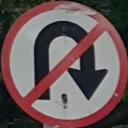NoVirarU: (2, 0, 128, 126)
